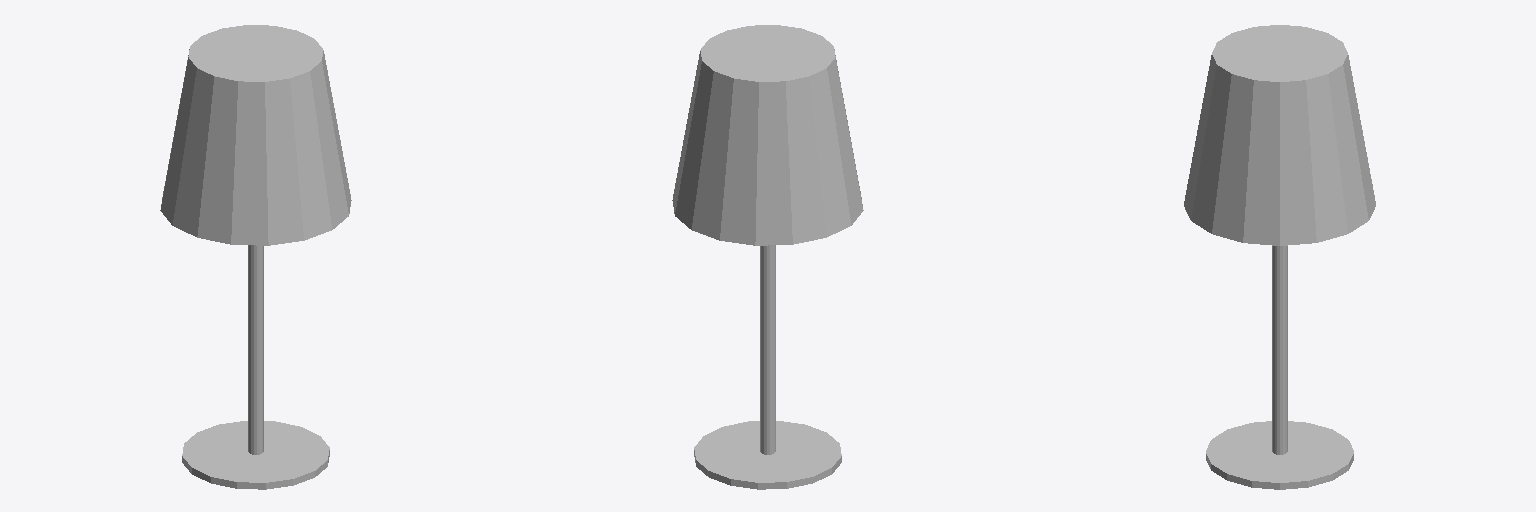
The model's file is lamp_shade.obj.
3 renders of one model, left to right at view 1: azimuth 30°, elevation 25°; view 2: azimuth 150°, elevation 25°; view 3: azimuth 270°, elevation 25°, orthographic.
Visible parts, largest first — view 1: BezierCurve.001, BezierCurve; view 2: BezierCurve.001, BezierCurve; view 3: BezierCurve.001, BezierCurve.
Part boxes in pixels (left/top/right/bottom): BezierCurve.001: left=160, top=25, right=351, bottom=245; BezierCurve: left=182, top=245, right=329, bottom=489; BezierCurve.001: left=672, top=25, right=863, bottom=245; BezierCurve: left=694, top=245, right=841, bottom=489; BezierCurve.001: left=1184, top=25, right=1375, bottom=245; BezierCurve: left=1206, top=246, right=1353, bottom=489.
Bounding box in the file's own units: 2.59 × 6 × 2.59.